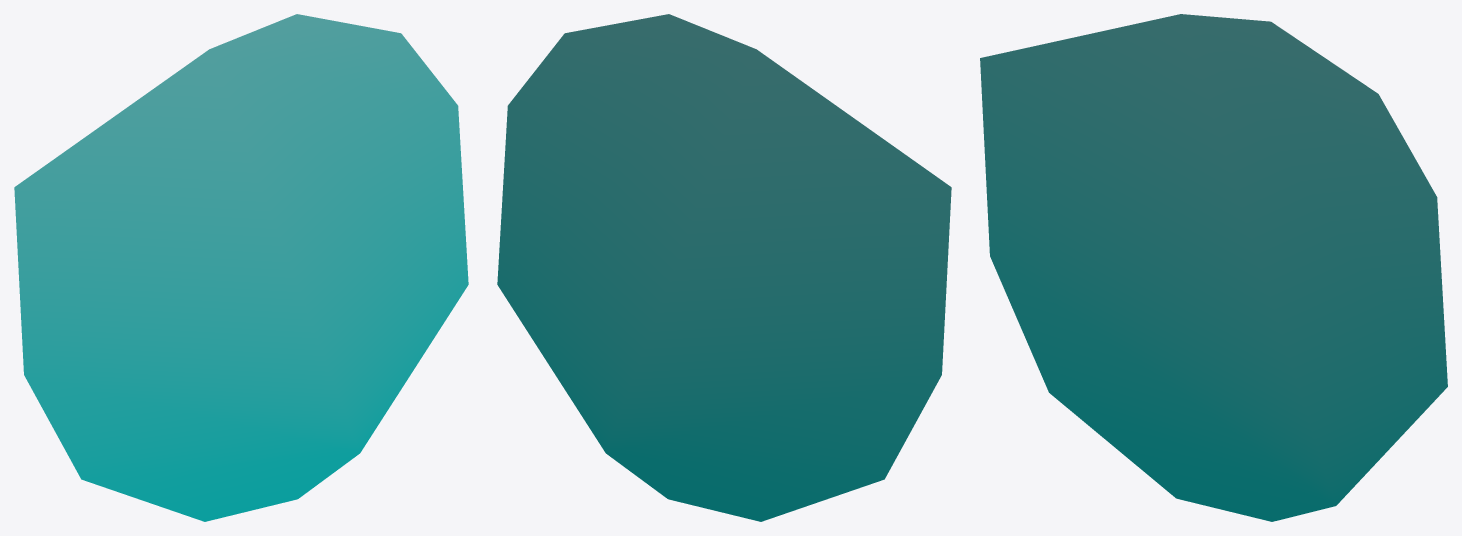
The model's file is Sage_ve3gbfoja_Mid_ve3gbfoja_VarA_LOD3.fbx.
The picture shows the model from 3 angles, left to right: view 1: azimuth 30°, elevation 25°; view 2: azimuth 150°, elevation 25°; view 3: azimuth 330°, elevation 25°; orthographic projection. The views are drawn at different scales.
Visible parts, largest first — view 1: _7ned_VarA_LOD5; view 2: _7ned_VarA_LOD5; view 3: _7ned_VarA_LOD5.
Boxes of the visible parts, left/top/right/bottom form: _7ned_VarA_LOD5: left=14, top=14, right=468, bottom=521; _7ned_VarA_LOD5: left=497, top=14, right=951, bottom=521; _7ned_VarA_LOD5: left=980, top=14, right=1447, bottom=521.
Size of the model in its own units: 71.25 by 72.76 by 0.
